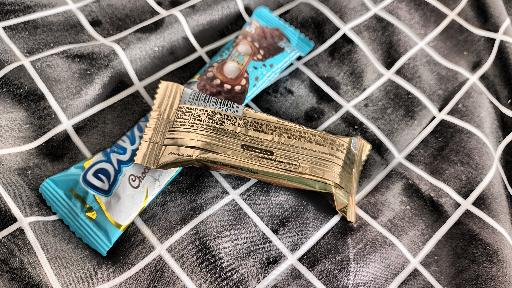dilan: (32, 6, 317, 252)
top: (140, 77, 372, 226)
